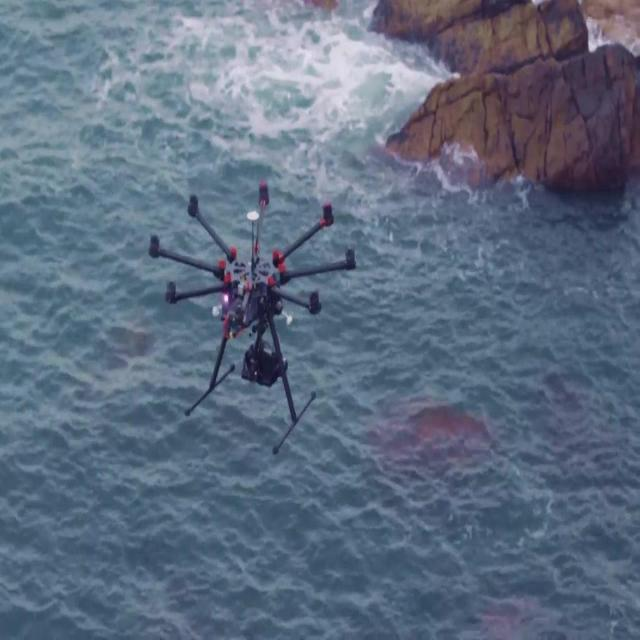UAV: (148, 179, 357, 457)
